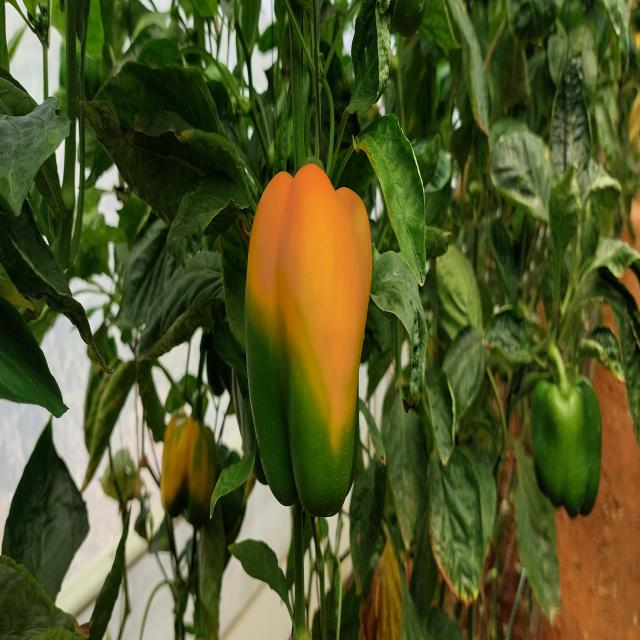Yellow-Ready-to-Harvest: (246, 158, 374, 450)
